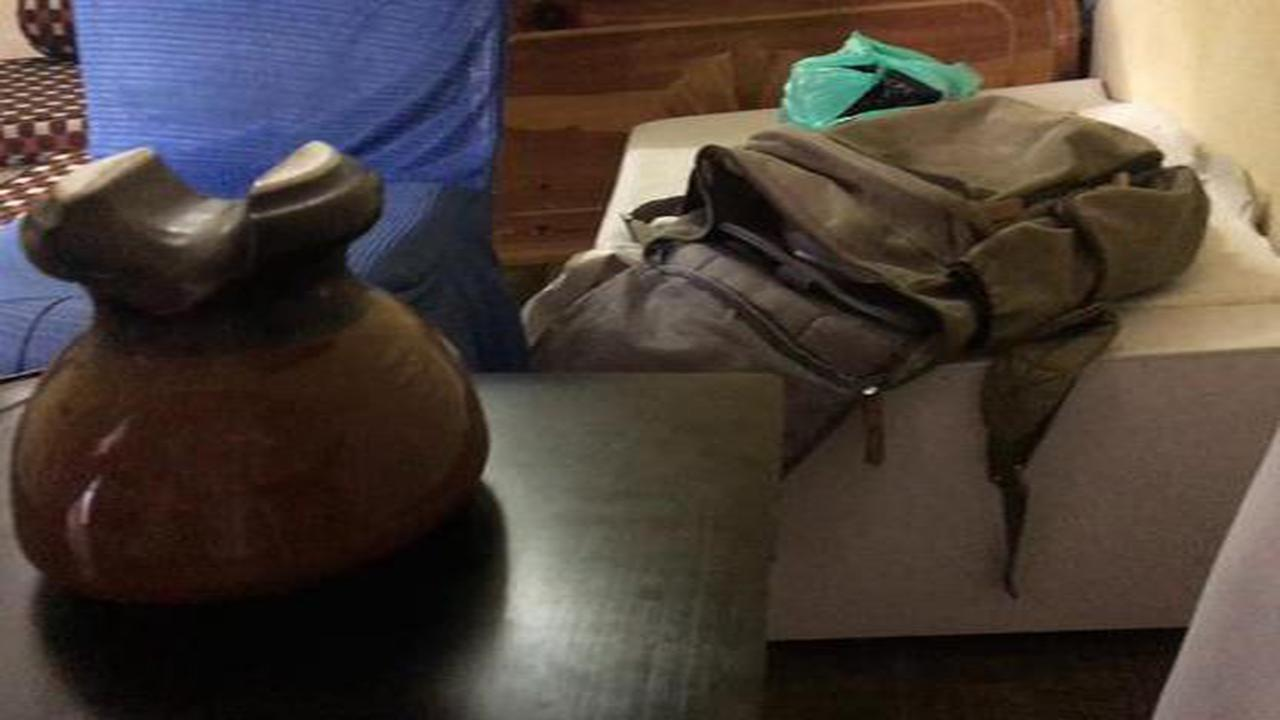insulator_pin: (6, 118, 511, 631)
